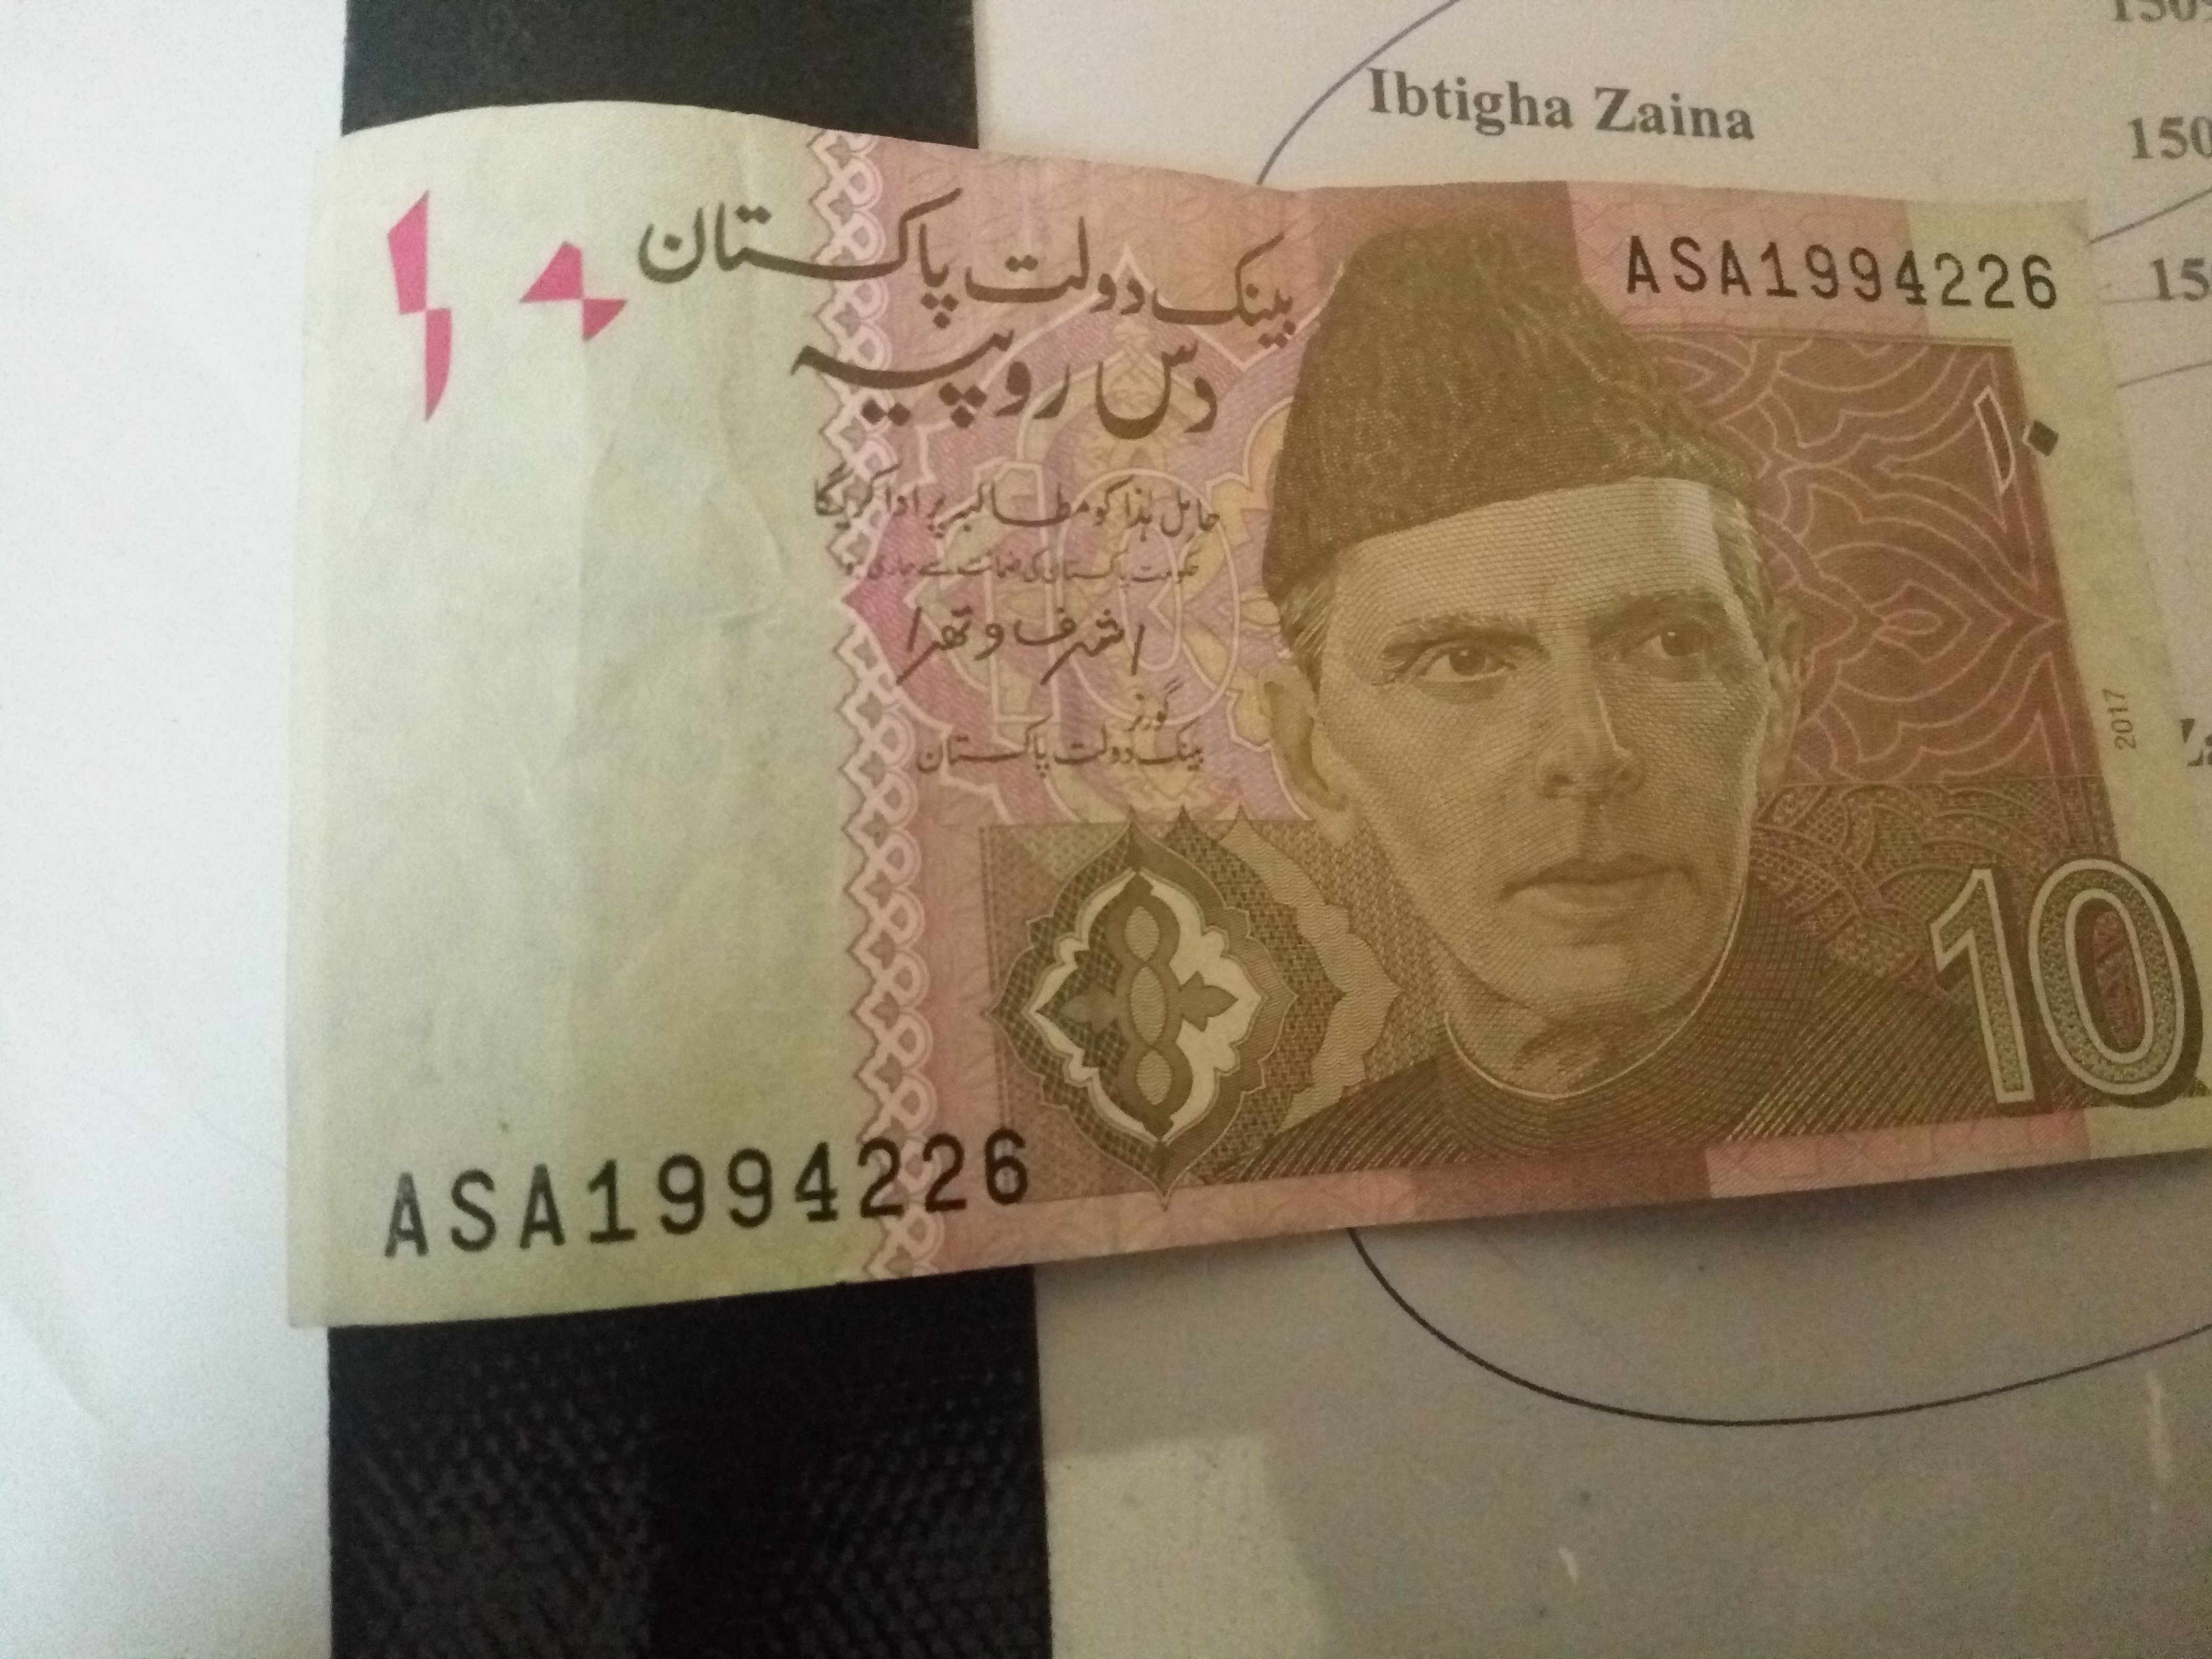10 rupee: (301, 54, 2200, 1394)
